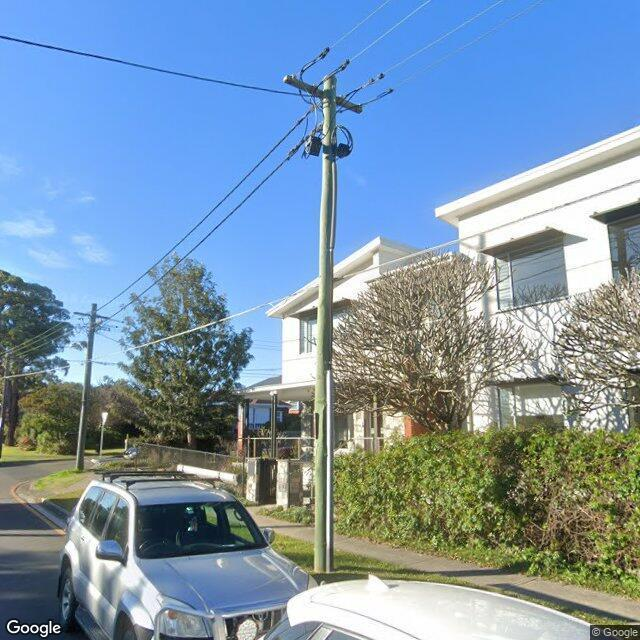crossarm: (282, 74, 362, 114), (74, 312, 110, 321)
timber-pole: (313, 76, 337, 573), (75, 303, 97, 471)
